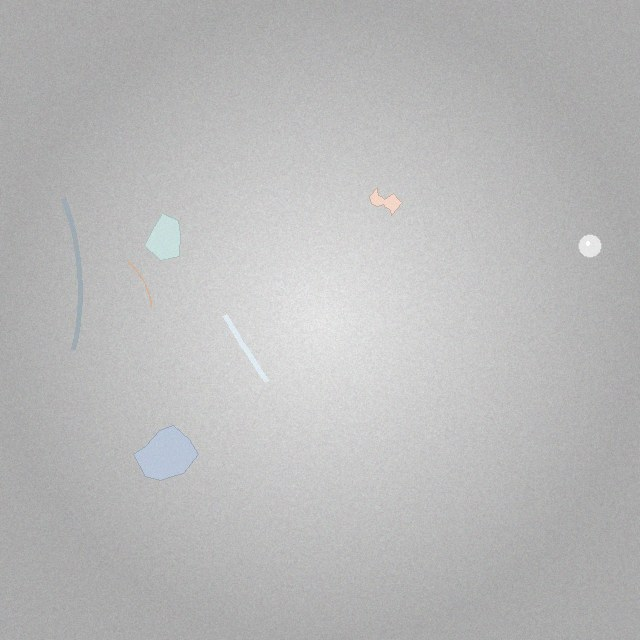fiber: (58, 193, 85, 355), (219, 310, 273, 387), (124, 258, 153, 309)
film: (369, 187, 403, 215)
fragment: (133, 426, 198, 480), (144, 213, 181, 261)
pellet: (579, 235, 601, 257)
